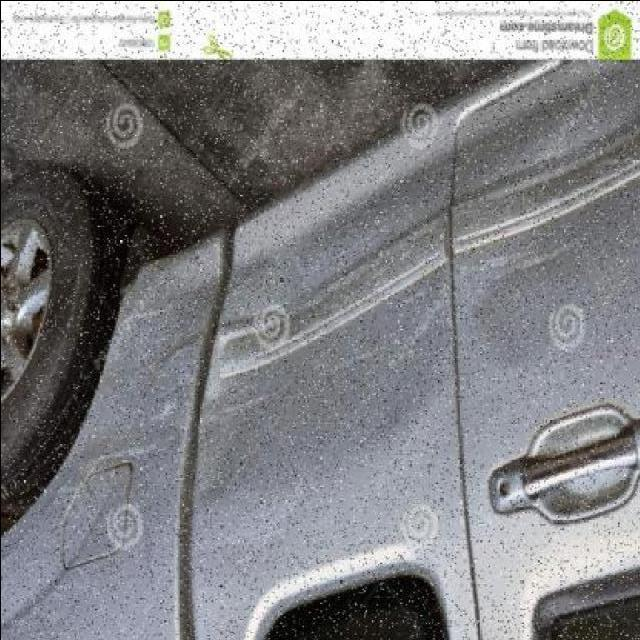doorouter-dent: (211, 121, 454, 572), (457, 107, 640, 598)
quaterpanel-dent: (0, 326, 194, 640)
